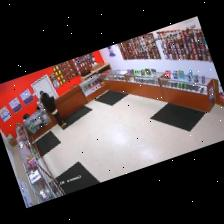person: (40, 93, 65, 127)
